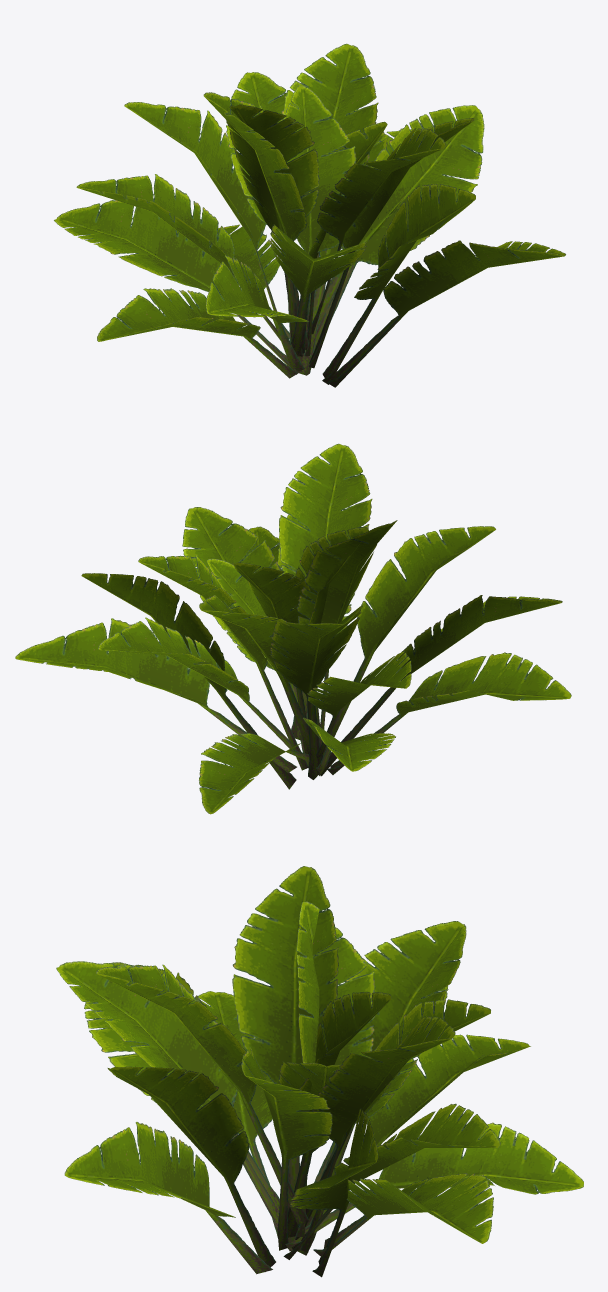
File: 5010_Item_zhiwu_02.FBX
3 renders of one model, top to bottom at view 1: azimuth 30°, elevation 25°; view 2: azimuth 150°, elevation 25°; view 3: azimuth 270°, elevation 25°, orthographic. The views are drawn at different scales.
Parts seen in each view (by area): view 1: 5010_Item_zhiwu_02; view 2: 5010_Item_zhiwu_02; view 3: 5010_Item_zhiwu_02.
Boxes of the visible parts, box(x1,y1,x2,y2) form: 5010_Item_zhiwu_02: box(54, 43, 565, 387); 5010_Item_zhiwu_02: box(15, 443, 571, 814); 5010_Item_zhiwu_02: box(56, 866, 583, 1277).
Size of the model in its own units: 238 by 152 by 209.
